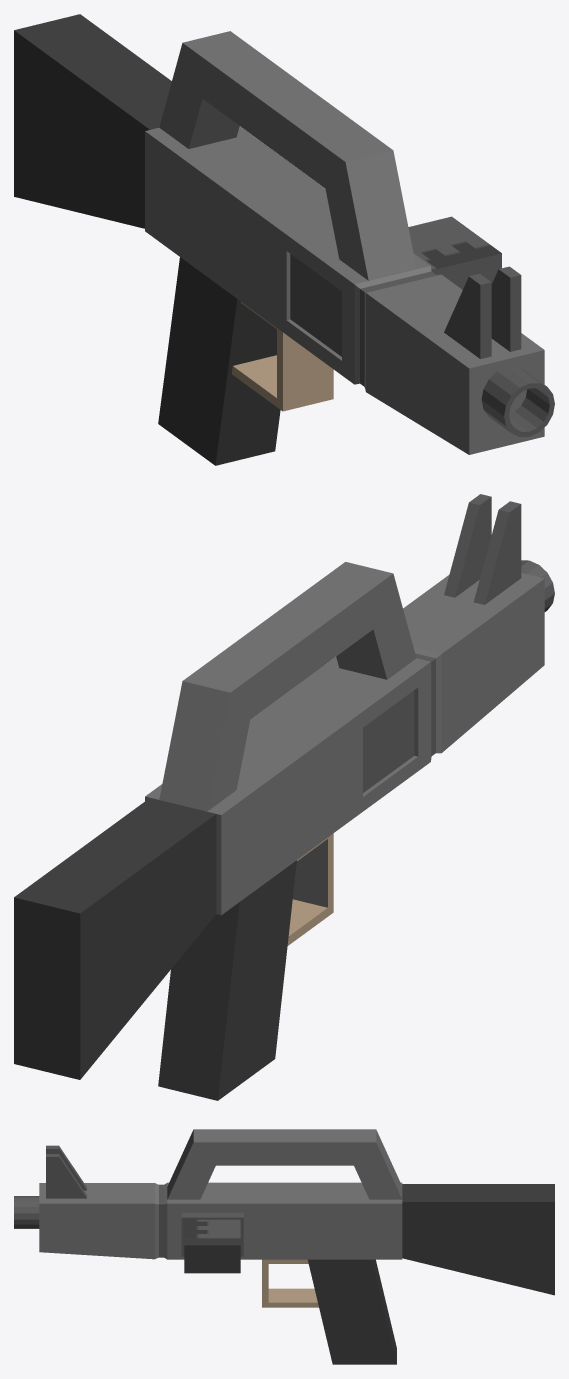
File: LaserAssult.obj
The picture shows the model from 3 angles, top to bottom: view 1: azimuth 30°, elevation 25°; view 2: azimuth 150°, elevation 25°; view 3: azimuth 270°, elevation 25°; orthographic projection. The views are drawn at different scales.
Parts seen in each view (by area): view 1: Gun_Cube, Magazine_Cube.004; view 2: Gun_Cube; view 3: Gun_Cube, Magazine_Cube.004.
Boxes of the visible parts, box(x1,y1,x2,y2) form: Gun_Cube: box(14, 14, 554, 465); Magazine_Cube.004: box(408, 216, 501, 289); Gun_Cube: box(14, 494, 554, 1100); Gun_Cube: box(14, 1129, 554, 1364); Magazine_Cube.004: box(184, 1219, 240, 1273).
Size of the model in its own units: 0.0382 by 0.0882 by 0.196.
